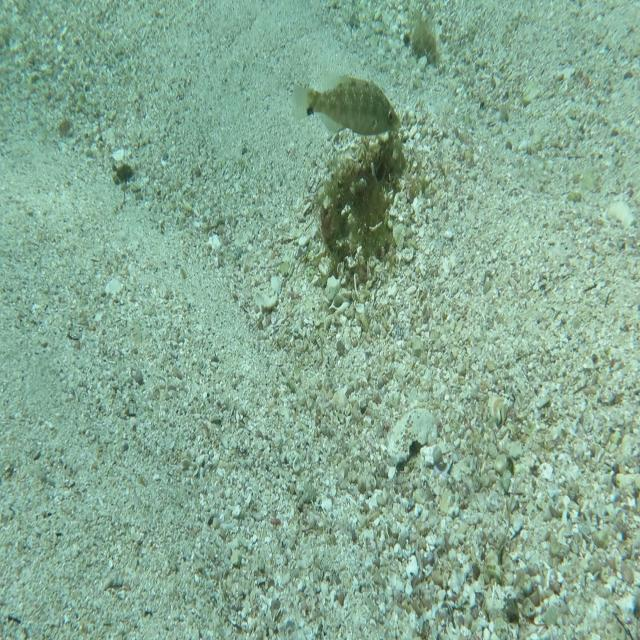DROP: (290, 69, 402, 138)
core_nest: (368, 145, 399, 182)
nest: (318, 126, 416, 270)
nest_material: (401, 126, 410, 142)
vegetation: (409, 14, 441, 66), (115, 158, 134, 184)
